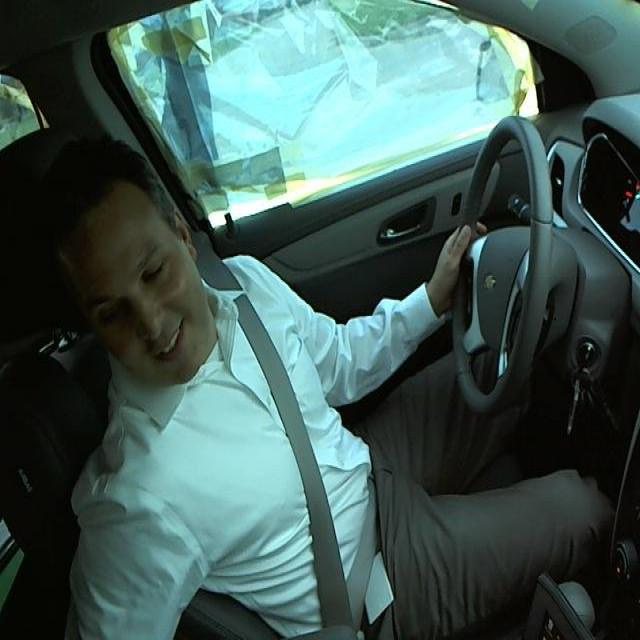seatbelt: (227, 308, 390, 631)
